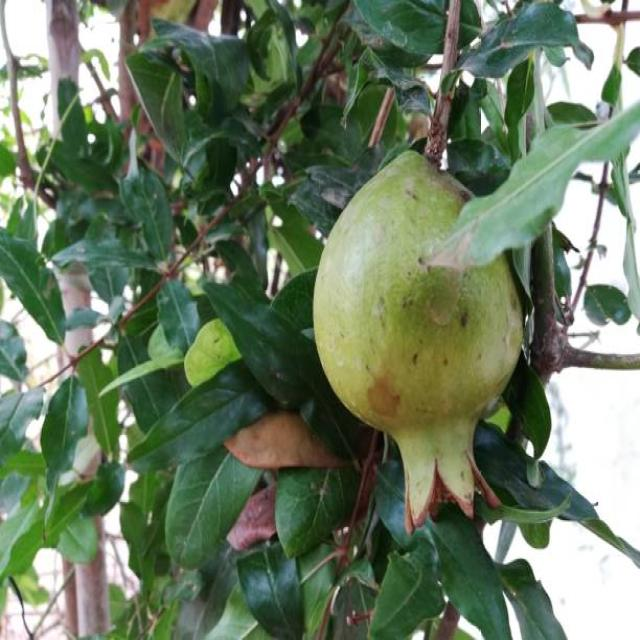Unripe: (315, 145, 528, 531)
